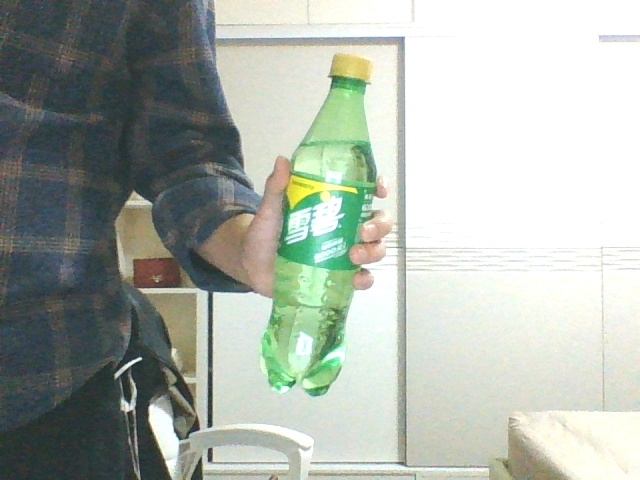Sprite: (260, 54, 376, 396)
